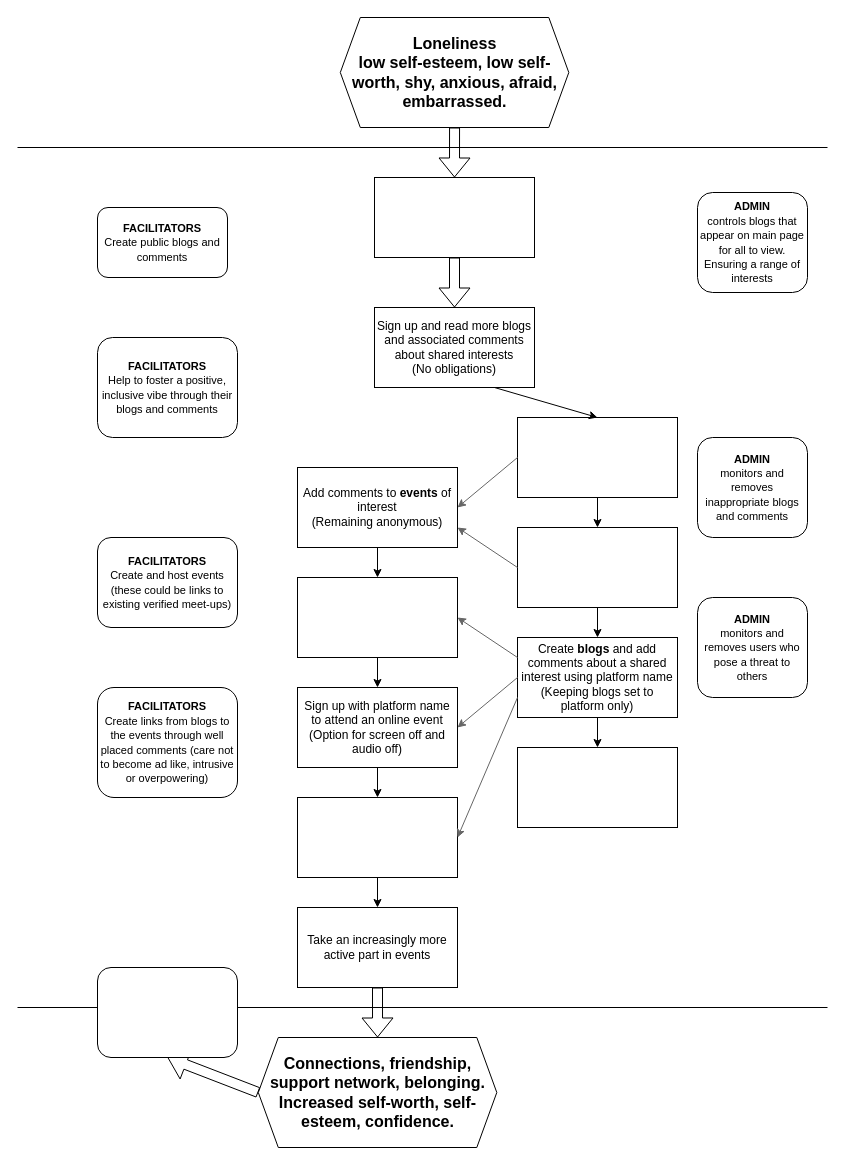
Image size: 846x1165. Some labels were removed from this diagram. Here are the shapes that lost their labels. From the top down, the box of each, then its label:
(374, 176, 534, 258): Read blogs about a shared interests (No strings attached)
(516, 416, 678, 498): Add comments to blogs of interest (Remaining anonymous)
(516, 526, 678, 608): Create blogs about a shared interest (Remaining anonymous)
(296, 576, 458, 658): Add comments to events of interest - with platform name
(516, 746, 678, 828): Create blogs and add comments - platform name and set to public
(296, 796, 458, 878): Sign up with platform name to attend an in-person event
(96, 966, 238, 1058): Become a FACILITATOR
